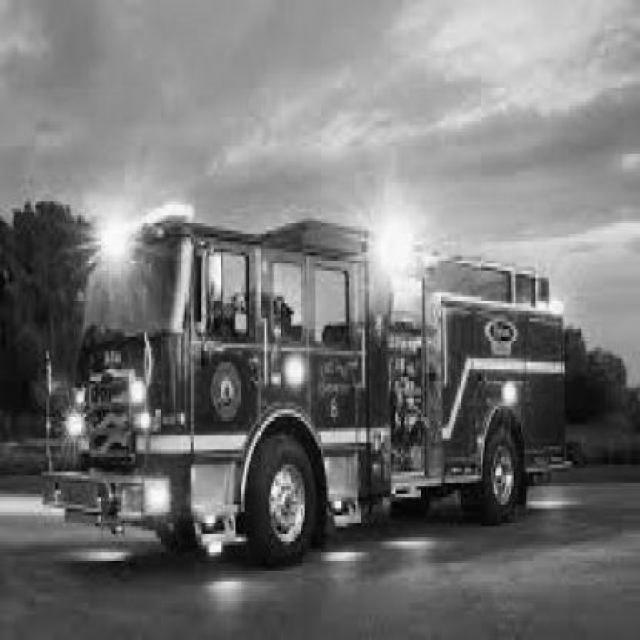Fire Truck: (43, 202, 572, 570)
